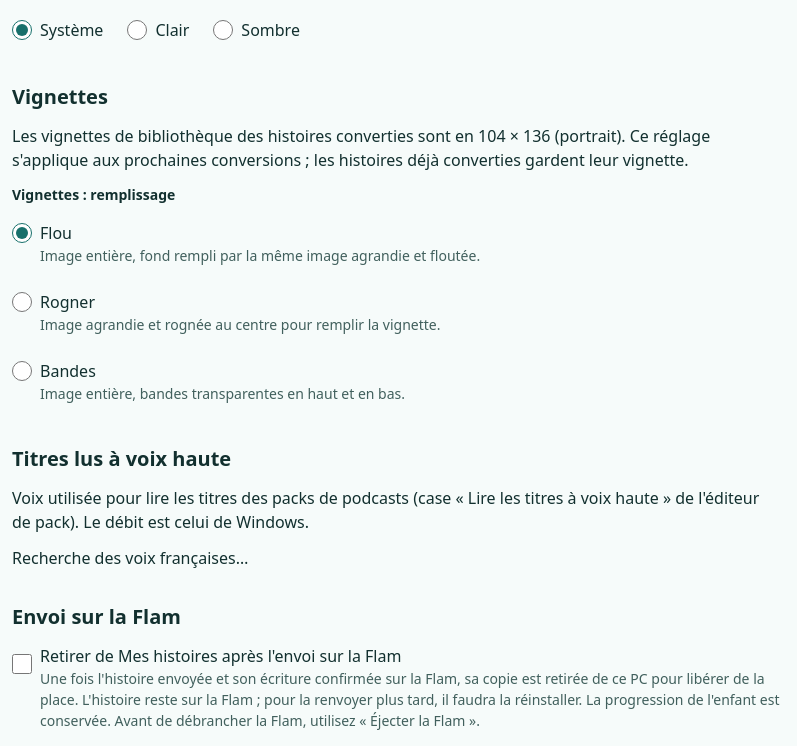
rétablit le remplissage précédent si l'enregistrement échoue
(page scrolled)
Click the radio button labelled "Bandes" at (22, 371), box top-left (12, 361), bottom-right (32, 381)
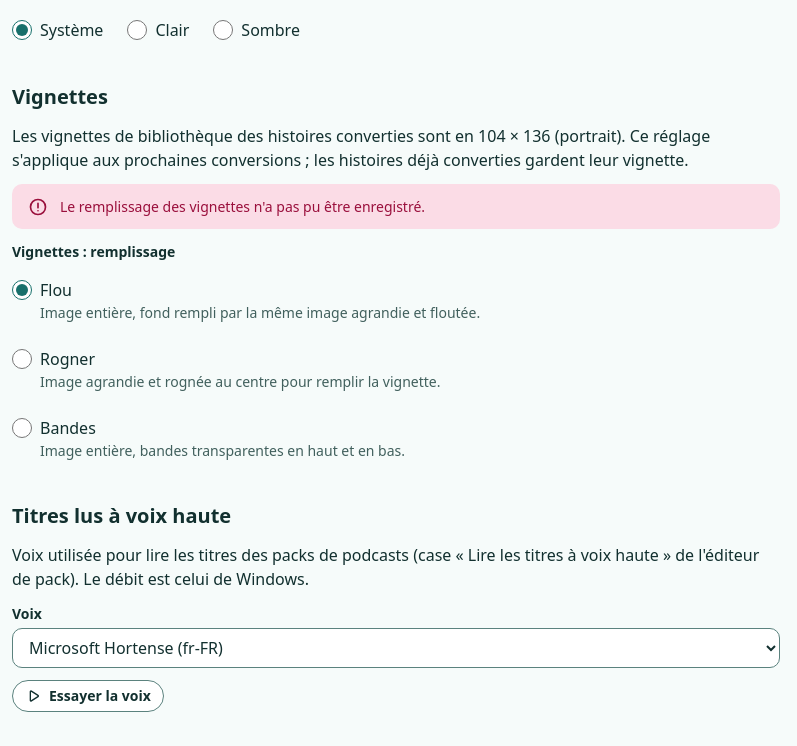
Expected: the radio button labelled "Flou" is checked, top-left (12, 280), bottom-right (32, 300)
Expected: the message reads "Le remplissage des vignettes n'a pas pu être enregistré.", top-left (60, 197), bottom-right (425, 216)
